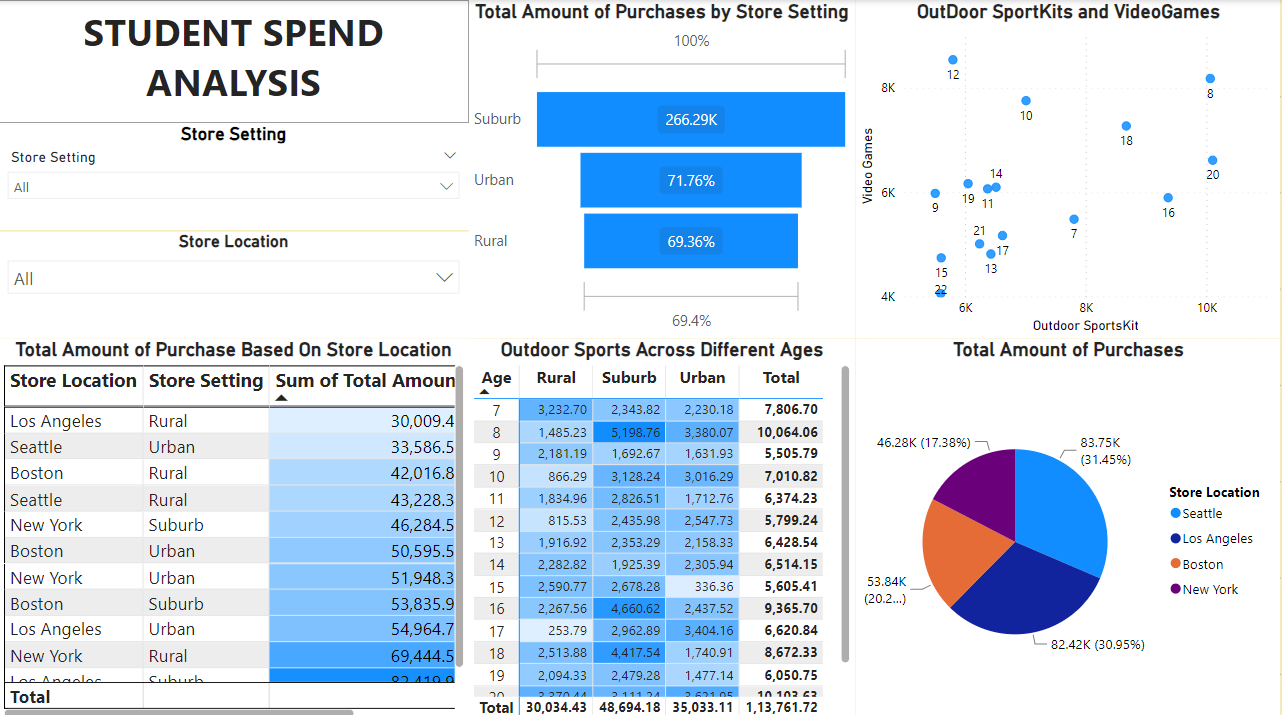

The page's visual inventory and layout, read from the dashboard file:
{"tool":"powerbi","page":{"name":"Page 1","canvas":[1280,720],"ordinal":0},"visuals":[{"type":"tableEx","title":"Total Amount of Purchase (TAP) based on Store Location","fields":{"Values":["'Student Survey$'FilterDatabase.Store Location","'Student Survey$'FilterDatabase.Store Setting","Sum('Student Survey$'FilterDatabase.Total Amount of Purchases)"]},"box":[0,373.7,364.4,308.8],"z":0},{"type":"pivotTable","title":"Outdoor sports across different ages","fields":{"Rows":["'Student Survey$'FilterDatabase.Age"],"Columns":["'Student Survey$'FilterDatabase.Store Setting"],"Values":["Sum('Student Survey$'FilterDatabase.OutDoor SportKits)"]},"box":[399.9,373.7,364.4,308.8],"z":1000},{"type":"funnel","fields":{"Category":["'Student Survey$'FilterDatabase.Store Setting"],"Y":["Sum('Student Survey$'FilterDatabase.Total Amount of Purchases)"]},"box":[324.2,29.3,429.2,308.8],"z":2000},{"type":"pieChart","fields":{"Category":["'Student Survey$'FilterDatabase.Store Location"],"Y":["Sum('Student Survey$'FilterDatabase.Total Amount of Purchases)"]},"box":[790.5,373.7,466.3,308.8],"z":3000},{"type":"scatterChart","fields":{"Category":["'Student Survey$'FilterDatabase.Age"],"X":["Sum('Student Survey$'FilterDatabase.OutDoor SportKits)"],"Y":["Sum('Student Survey$'FilterDatabase.VideoGames)"]},"box":[764.3,29.3,492.5,308.8],"z":4000},{"type":"slicer","fields":{"Values":["'Student Survey$'FilterDatabase.Store Setting"]},"box":[15.4,256.3,293.4,81.8],"z":5000},{"type":"slicer","fields":{"Values":["'Student Survey$'FilterDatabase.Store Location"]},"box":[15.4,140.5,299.5,81.8],"z":6000},{"type":"textbox","box":[9.3,29.3,299.5,81.8],"z":7000}]}

Visuals, with their boxes in screenshot pixels (x1, y1, x2, y2), scaled from the page's 1280x720 canvas onto the 1282x715 screenshot:
"Total Amount of Purchase (TAP) based on Store Location" tableEx: 0/371/365/678
"Outdoor sports across different ages" pivotTable: 401/371/765/678
funnel - 'Student Survey$'FilterDatabase.Store Setting x Sum('Student Survey$'FilterDatabase.Total Amount of Purchases): 325/29/755/336
pieChart - 'Student Survey$'FilterDatabase.Store Location x Sum('Student Survey$'FilterDatabase.Total Amount of Purchases): 792/371/1259/678
scatterChart - 'Student Survey$'FilterDatabase.Age x Sum('Student Survey$'FilterDatabase.OutDoor SportKits): 765/29/1259/336
slicer - 'Student Survey$'FilterDatabase.Store Setting: 15/255/309/336
slicer - 'Student Survey$'FilterDatabase.Store Location: 15/140/315/221
textbox: 9/29/309/110
